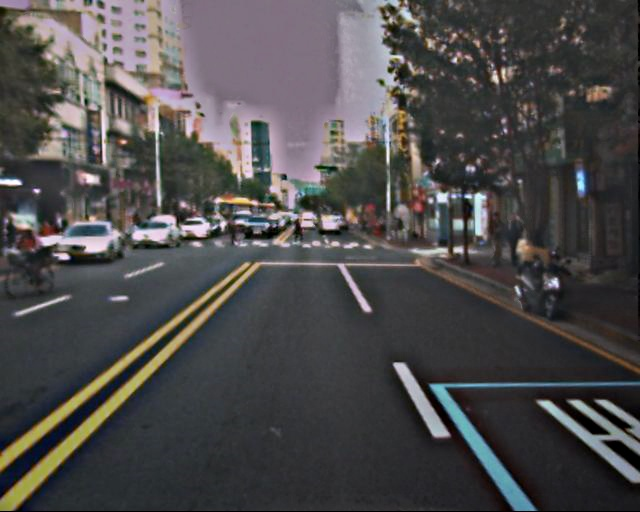person: (483, 210, 508, 270), (502, 212, 525, 269), (291, 219, 302, 246)
